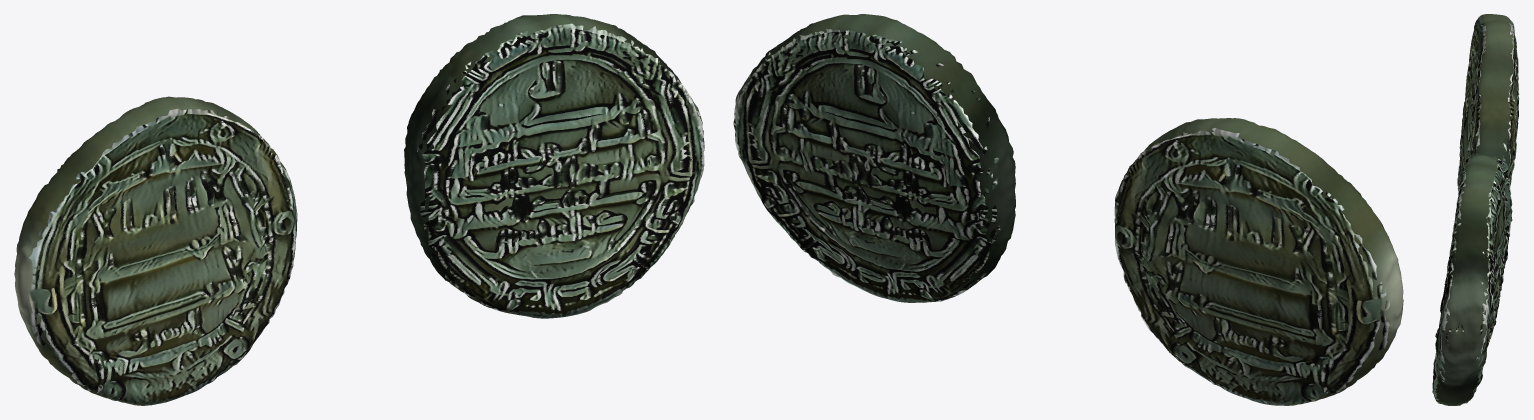
The model's file is kfl-2236.glb.
3 renders of one model, left to right at view 1: azimuth 30°, elevation 25°; view 2: azimuth 150°, elevation 25°; view 3: azimuth 270°, elevation 25°, orthographic. The views are drawn at different scales.
Parts seen in each view (by area): view 1: kfl-2236; view 2: kfl-2236; view 3: kfl-2236.
Boxes of the visible parts, bbox=[...] form: kfl-2236: bbox=[14, 14, 704, 405]; kfl-2236: bbox=[733, 14, 1403, 405]; kfl-2236: bbox=[1432, 14, 1519, 405].
Size of the model in its own units: 0.9934 by 0.41 by 0.1402.
4 materials, 4 textured.
